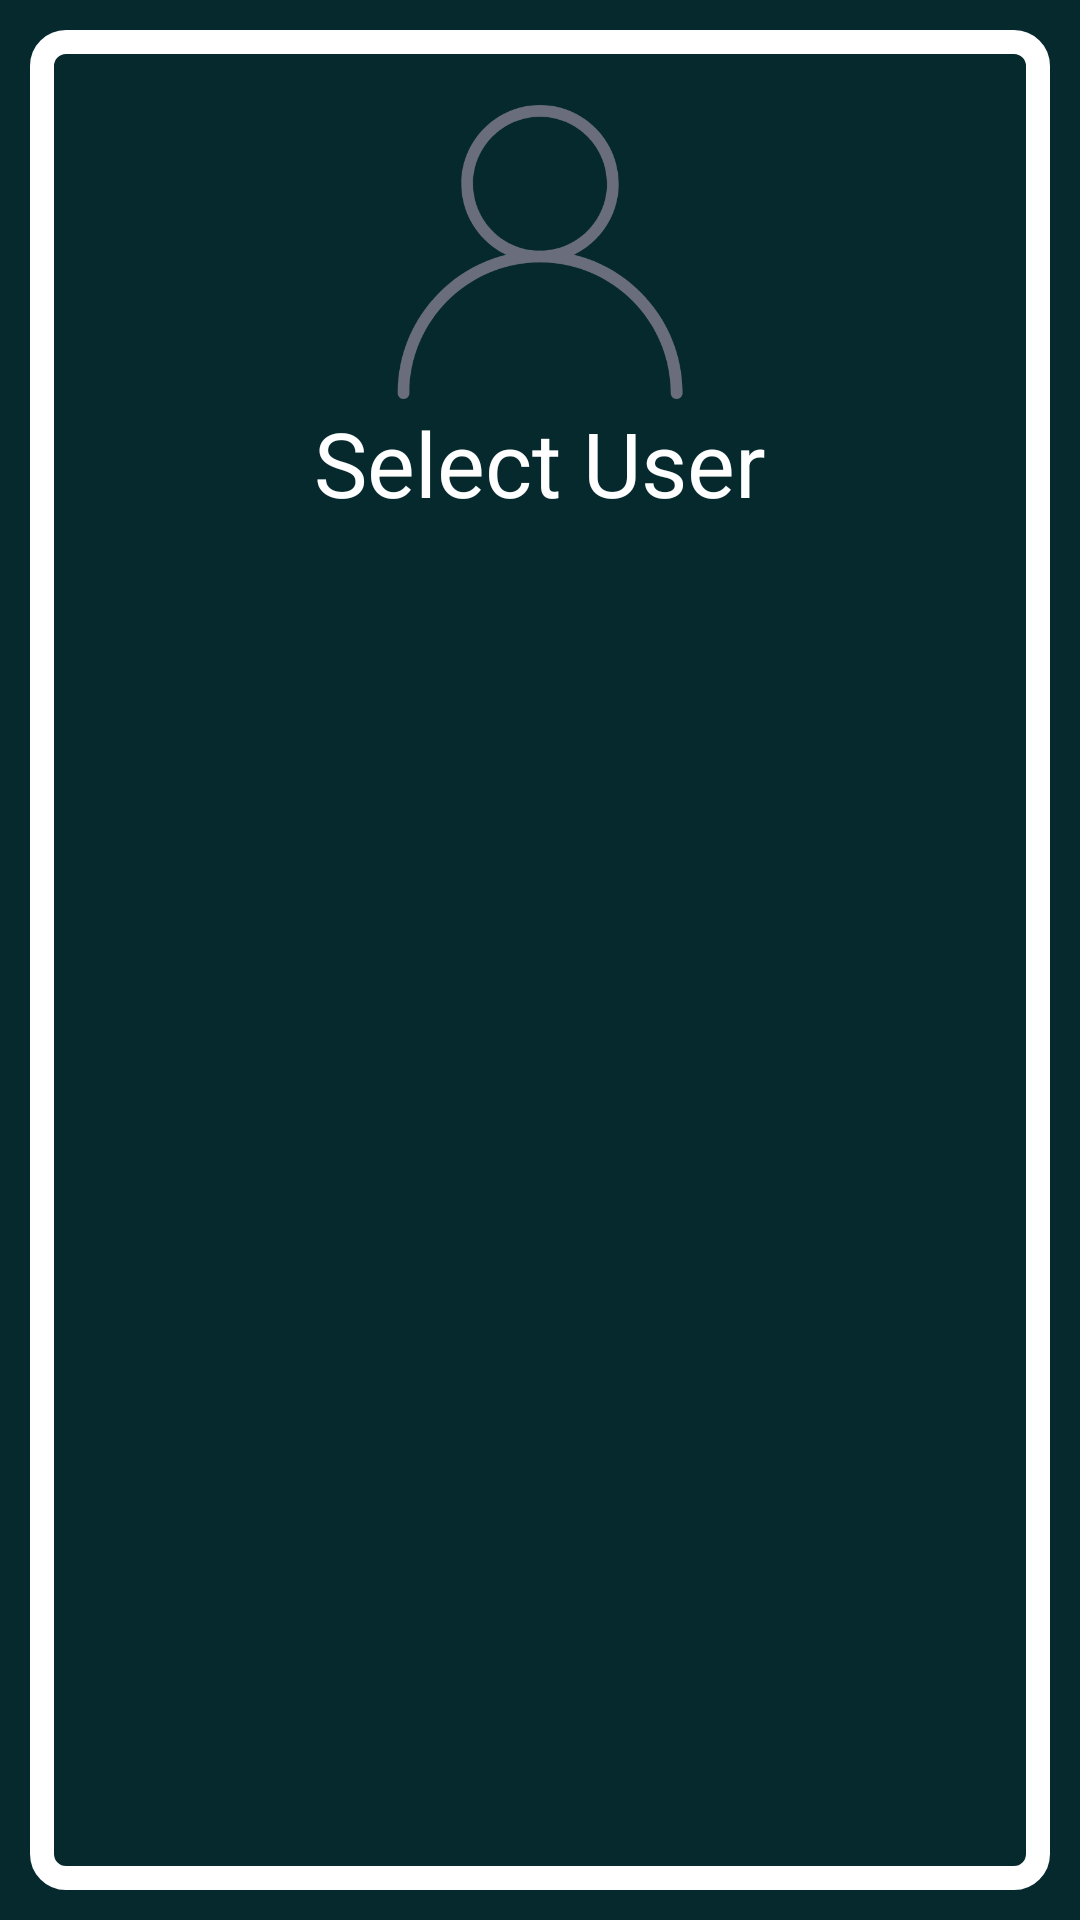

Icon bounding boxes for this 1080×1920 phone screenshot, format (x1, y1, x2, y2):
user admin: (397, 105, 683, 399)
